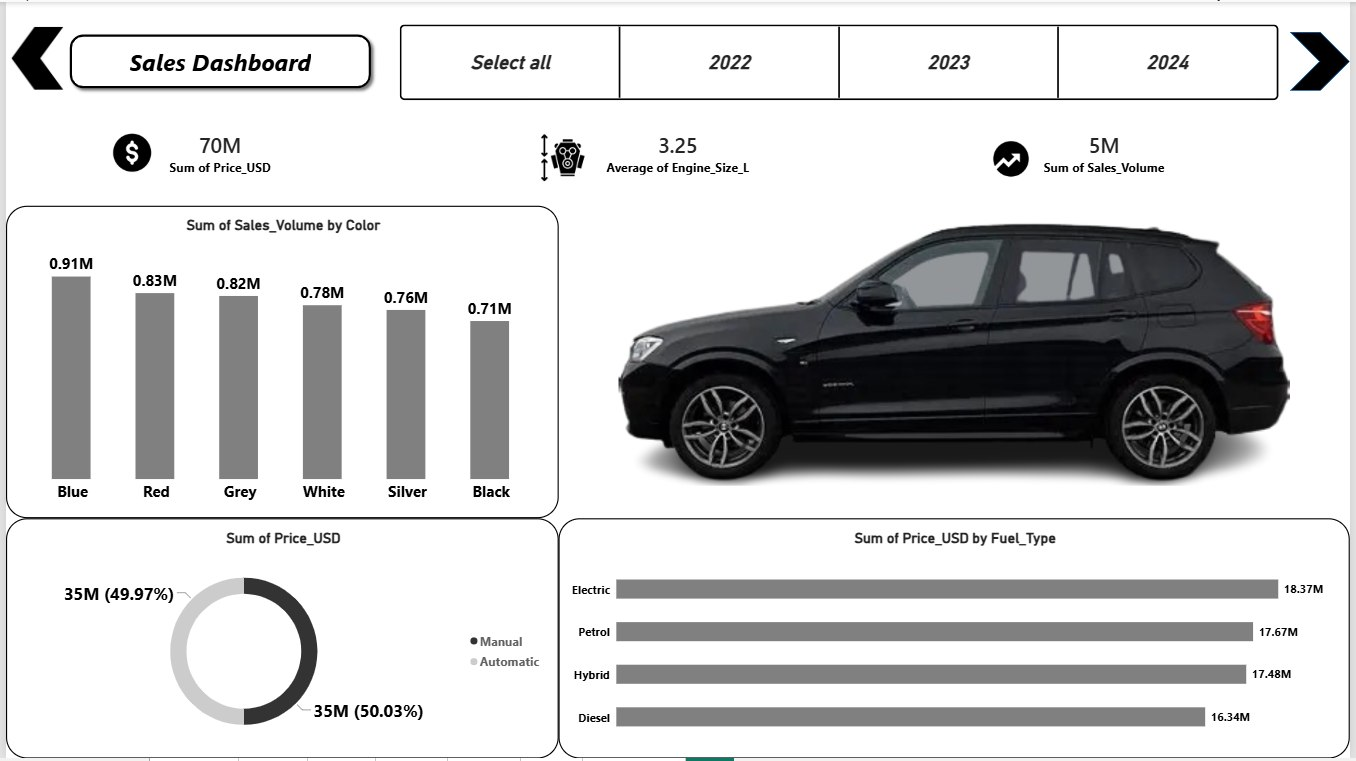

Layout of this report page (visuals, bound fields, positions):
{"tool":"powerbi","page":{"name":"X3","canvas":[1920,1080],"ordinal":1},"visuals":[{"type":"shape","box":[82.1,37.5,448.2,94.6],"z":0},{"type":"advancedSlicerVisual","fields":{"Values":["BMW_Car_Sales_Classification - BMW_Car_Sales_Classification.Year"]},"box":[562.5,32.1,1258.9,108.9],"z":1000},{"type":"cardVisual","fields":{"Data":["Sum(BMW_Car_Sales_Classification - BMW_Car_Sales_Classification.Price_USD)"]},"box":[82.1,141.1,448,150],"z":2000},{"type":"cardVisual","fields":{"Data":["Sum(BMW_Car_Sales_Classification - BMW_Car_Sales_Classification.Sales_Volume)"]},"box":[1344.6,141.1,448,150],"z":3000},{"type":"cardVisual","fields":{"Data":["Avg(BMW_Car_Sales_Classification - BMW_Car_Sales_Classification.Engine_Size_L)"]},"box":[735.7,141.1,448,150],"z":4000},{"type":"image","box":[148.2,185.7,64.3,58.9],"z":5000},{"type":"image","box":[703.6,185.7,183.9,73.2],"z":6000},{"type":"image","box":[1405.4,185.7,60.7,76.8],"z":7000},{"type":"image","box":[875,167.9,958.9,569.6],"z":8000},{"type":"columnChart","fields":{"Category":["BMW_Car_Sales_Classification - BMW_Car_Sales_Classification.Color"],"Y":["Sum(BMW_Car_Sales_Classification - BMW_Car_Sales_Classification.Sales_Volume)"]},"box":[0,291.1,789.3,446.4],"z":9000},{"type":"donutChart","title":"Sum of Price_USD ","fields":{"Category":["BMW_Car_Sales_Classification - BMW_Car_Sales_Classification.Transmission"],"Y":["Sum(BMW_Car_Sales_Classification - BMW_Car_Sales_Classification.Price_USD)"]},"box":[0,737.5,789.3,342.9],"z":9001},{"type":"barChart","fields":{"Category":["BMW_Car_Sales_Classification - BMW_Car_Sales_Classification.Fuel_Type"],"Y":["Sum(BMW_Car_Sales_Classification - BMW_Car_Sales_Classification.Price_USD)"]},"box":[789.3,737.5,1130.4,342.9],"z":9002},{"type":"shape","box":[1833.9,42.9,85.7,83.9],"z":9003},{"type":"image","box":[0,19.6,89.3,121.4],"z":9004}]}

Visuals, with their boxes in screenshot pixels (x1, y1, x2, y2), scaled from the page's 1920x1080 canvas onto the 1356x761 screenshot:
shape: bbox=(58, 26, 375, 93)
advancedSlicerVisual - BMW_Car_Sales_Classification - BMW_Car_Sales_Classification.Year: bbox=(397, 23, 1286, 99)
cardVisual - Sum(BMW_Car_Sales_Classification - BMW_Car_Sales_Classification.Price_USD): bbox=(58, 99, 374, 205)
cardVisual - Sum(BMW_Car_Sales_Classification - BMW_Car_Sales_Classification.Sales_Volume): bbox=(950, 99, 1266, 205)
cardVisual - Avg(BMW_Car_Sales_Classification - BMW_Car_Sales_Classification.Engine_Size_L): bbox=(520, 99, 836, 205)
image: bbox=(105, 131, 150, 172)
image: bbox=(497, 131, 627, 182)
image: bbox=(993, 131, 1035, 185)
image: bbox=(618, 118, 1295, 520)
columnChart - BMW_Car_Sales_Classification - BMW_Car_Sales_Classification.Color x Sum(BMW_Car_Sales_Classification - BMW_Car_Sales_Classification.Sales_Volume): bbox=(0, 205, 557, 520)
"Sum of Price_USD " donutChart: bbox=(0, 520, 557, 760)
barChart - BMW_Car_Sales_Classification - BMW_Car_Sales_Classification.Fuel_Type x Sum(BMW_Car_Sales_Classification - BMW_Car_Sales_Classification.Price_USD): bbox=(557, 520, 1355, 760)
shape: bbox=(1295, 30, 1355, 89)
image: bbox=(0, 14, 63, 99)
